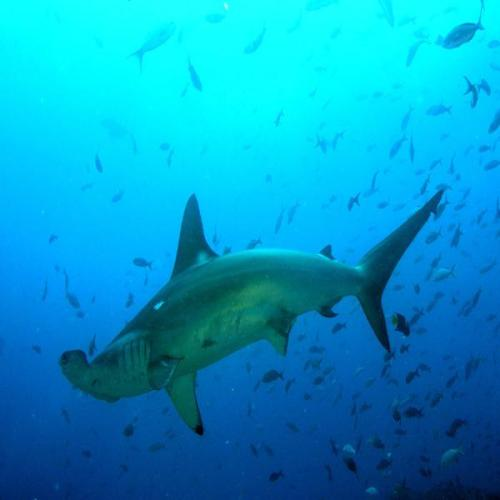shark-endangered: (59, 188, 447, 438)
